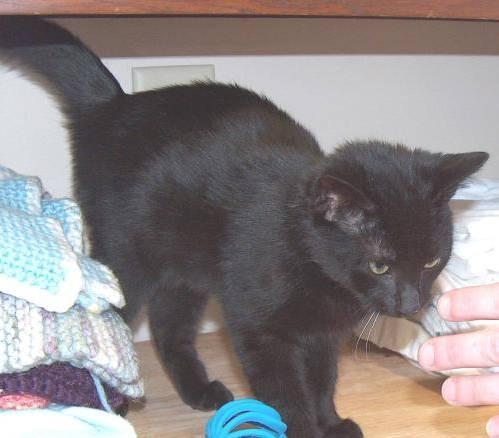cat: (0, 18, 488, 437)
